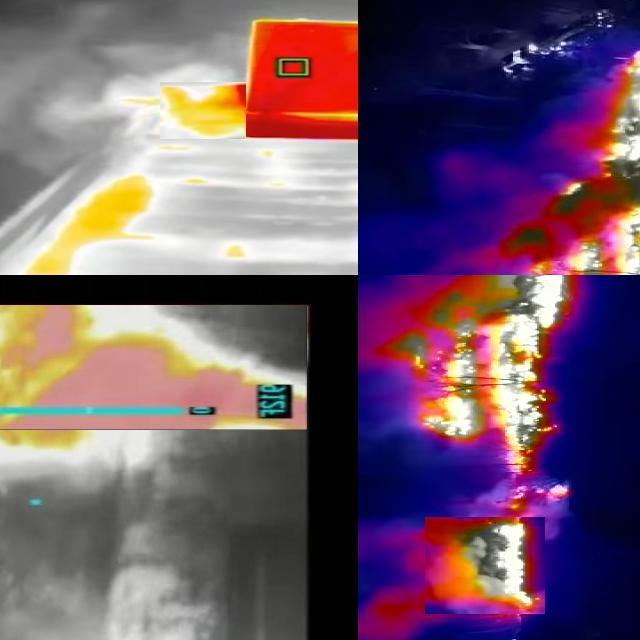fire: (392, 276, 578, 511), (1, 306, 307, 431), (492, 46, 640, 276), (30, 175, 165, 273), (425, 518, 545, 615), (160, 83, 246, 140)
